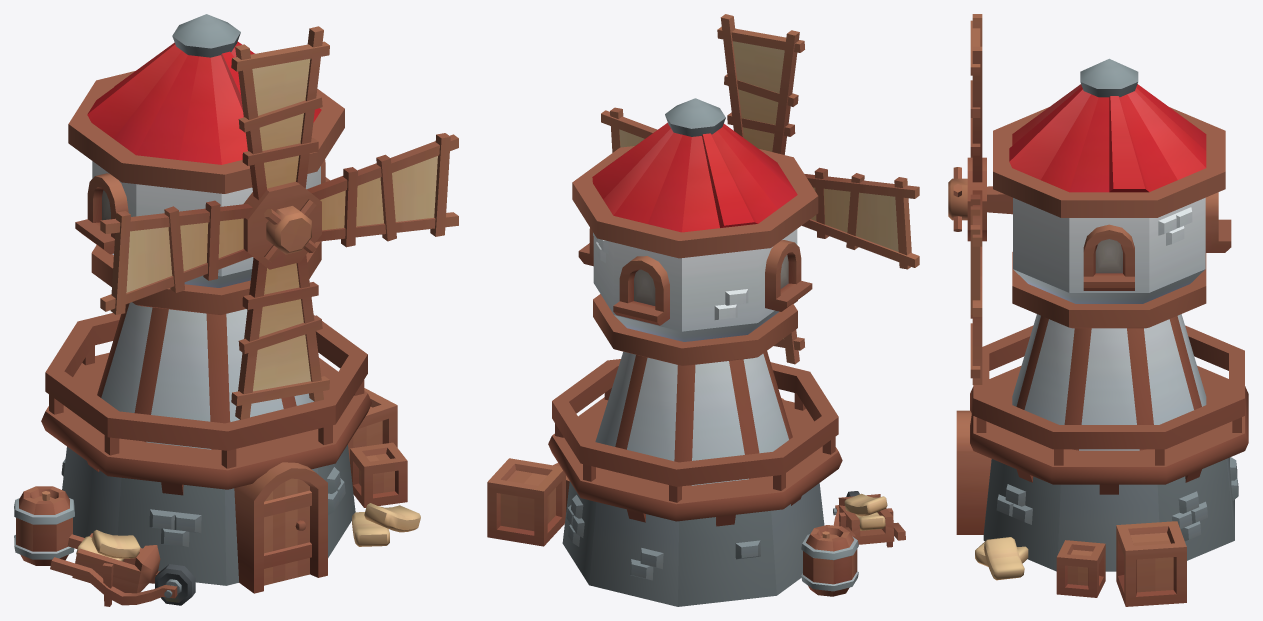
File: windmill_red.glb
The picture shows the model from 3 angles, left to right: view 1: azimuth 30°, elevation 25°; view 2: azimuth 150°, elevation 25°; view 3: azimuth 270°, elevation 25°; orthographic projection. The views are drawn at different scales.
Parts seen in each view (by area): view 1: building_windmill_red, building_windmill_top_fan_red, building_windmill_top_red; view 2: building_windmill_red, building_windmill_top_red, building_windmill_top_fan_red; view 3: building_windmill_red, building_windmill_top_red, building_windmill_top_fan_red.
Boxes of the visible parts, box(x1,y1,x2,y2) form: building_windmill_red: box(14, 302, 420, 606); building_windmill_top_fan_red: box(100, 26, 458, 419); building_windmill_top_red: box(68, 14, 344, 314); building_windmill_red: box(487, 351, 905, 606); building_windmill_top_red: box(572, 98, 818, 365); building_windmill_top_fan_red: box(601, 14, 919, 364); building_windmill_red: box(956, 314, 1248, 606); building_windmill_top_red: box(987, 58, 1231, 328); building_windmill_top_fan_red: box(948, 14, 986, 384).
Bounding box in the file's own units: 1.13 × 1.46 × 0.8165.
Materials: 1 (1 with a texture image).
